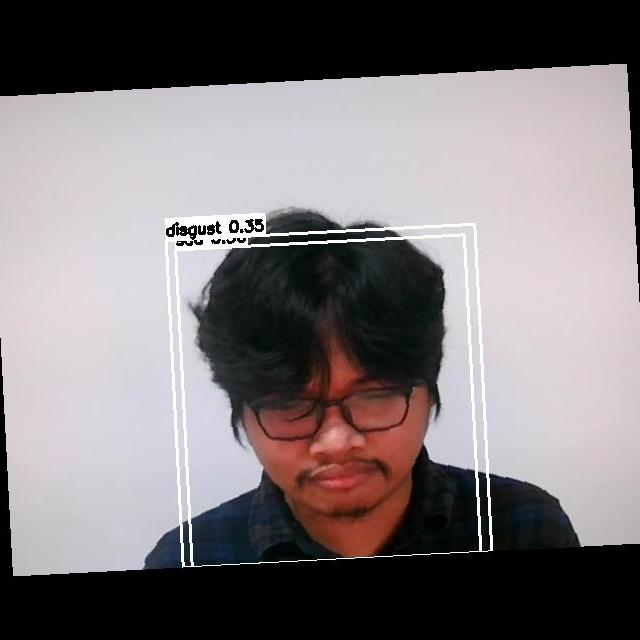Sad: (229, 352, 439, 523)
